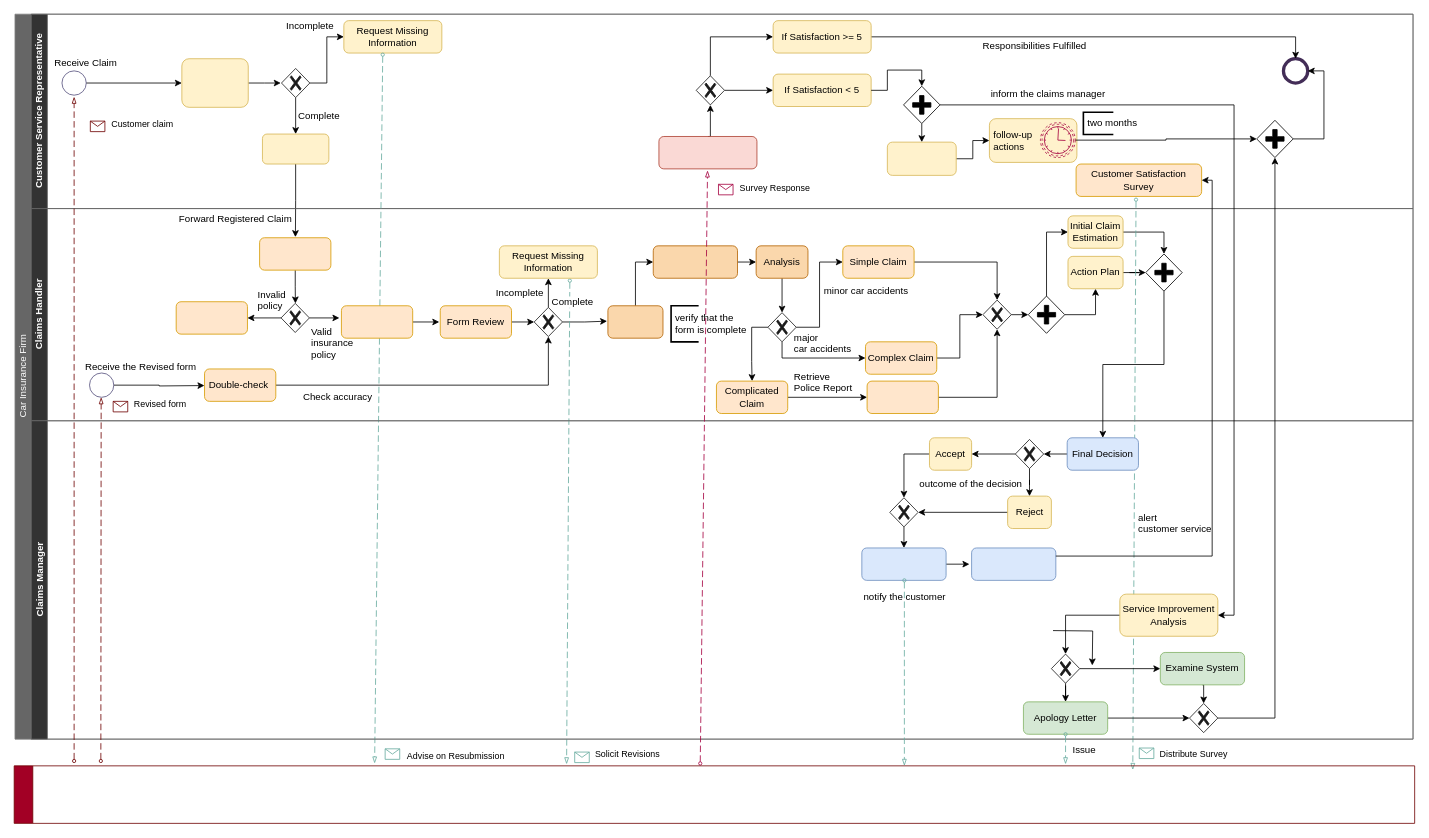
The diagram is 1429 pixels wide and 838 high, and some of its shapes have lost their labels. The centre of each missing label's shape, as x and y in pixels:
"Claim Assessment" goes at (377,321).
"Claim File Update" goes at (1013,563).
"Claim Registration" goes at (295,148).
"Claimant" goes at (714,794).
"Data Entry" goes at (707,152).
"Document Retrieval" goes at (902,397).
"Documentation" goes at (695,261).
"Initial Claim Review" goes at (214,82).
"No Reply Handling" goes at (921,158).
"Notification Content" goes at (903,563).
"Notify Claimant of Denial" goes at (211,317).
"Policy Verification" goes at (295,253).
"Verification" goes at (635,321).
